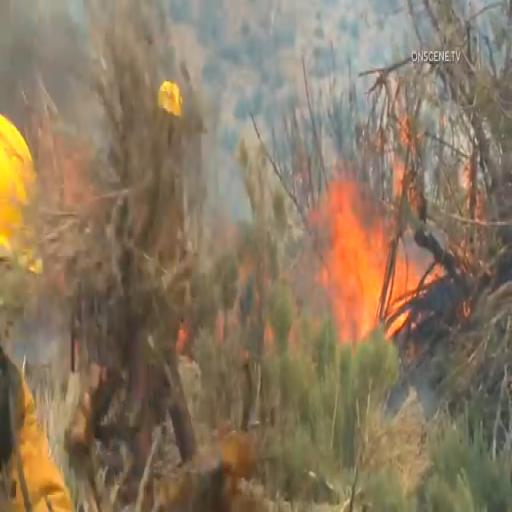fire: (324, 169, 447, 389)
